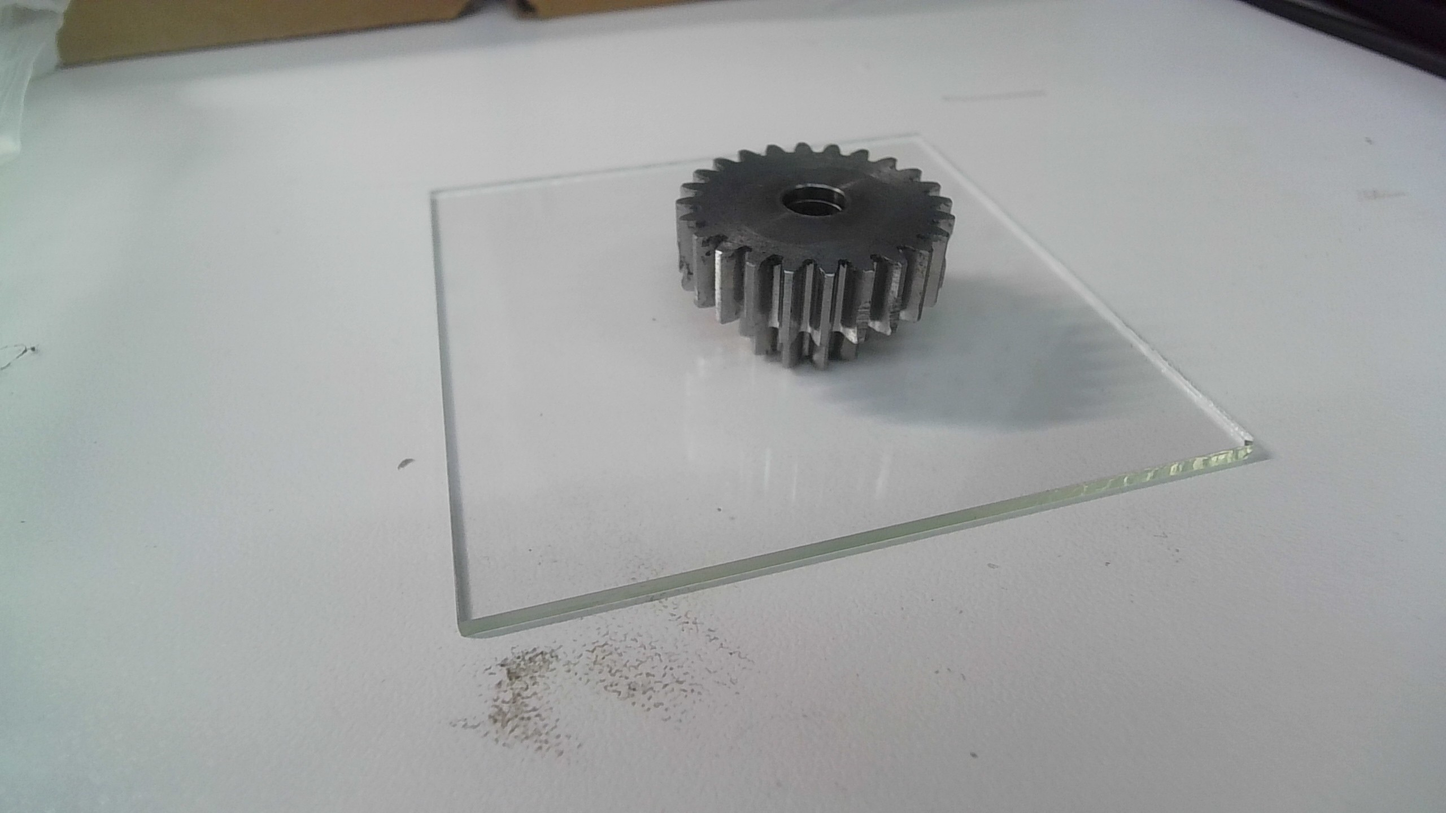gear: (672, 139, 959, 377)
